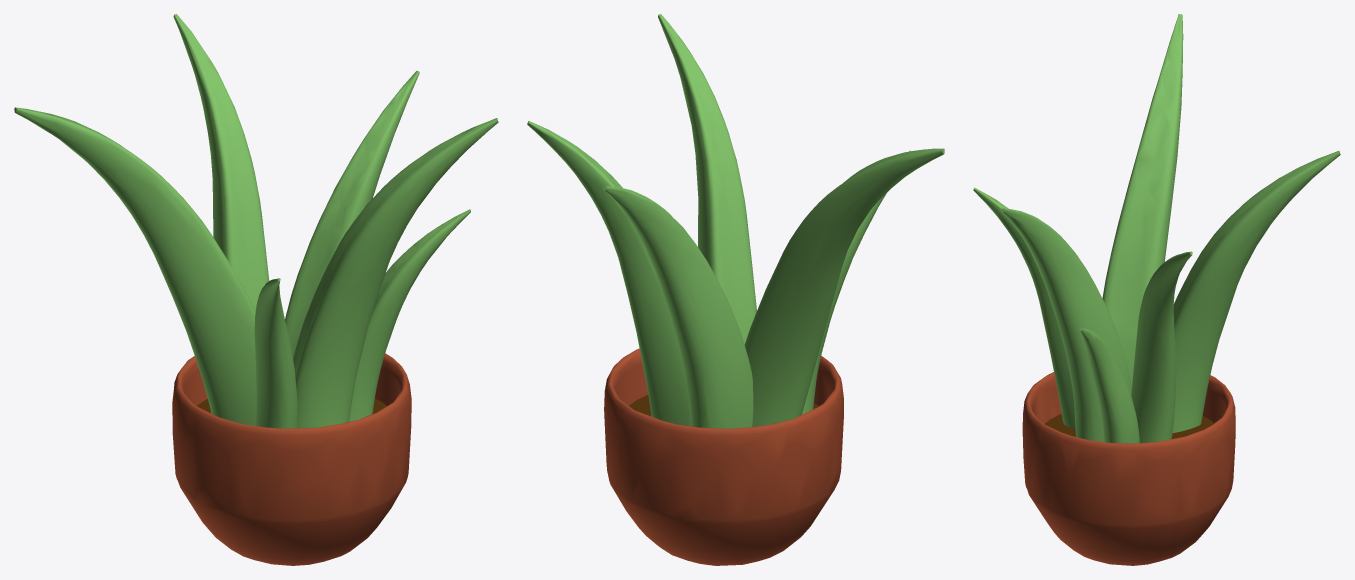
File: plant.glb
3 renders of one model, left to right at view 1: azimuth 30°, elevation 25°; view 2: azimuth 150°, elevation 25°; view 3: azimuth 270°, elevation 25°, orthographic. The views are drawn at different scales.
Parts seen in each view (by area): view 1: plant.001, NurbsPath.009, NurbsPath.008, NurbsPath.010, NurbsPath.011, NurbsPath.006, NurbsPath.007; view 2: plant.001, NurbsPath.009, NurbsPath.010, NurbsPath.008, NurbsPath.011, NurbsPath.007; view 3: plant.001, NurbsPath.009, NurbsPath.010, NurbsPath.008, NurbsPath.011, NurbsPath.006, NurbsPath.007, Circle.001.
Boxes of the visible parts, bbox=[...] form: plant.001: bbox=[172, 353, 411, 565]; NurbsPath.009: bbox=[14, 107, 256, 425]; NurbsPath.008: bbox=[293, 118, 498, 428]; NurbsPath.010: bbox=[173, 14, 269, 310]; NurbsPath.011: bbox=[285, 71, 419, 357]; NurbsPath.006: bbox=[349, 209, 470, 421]; NurbsPath.007: bbox=[254, 278, 297, 428]; plant.001: bbox=[604, 348, 843, 565]; NurbsPath.009: bbox=[744, 148, 944, 426]; NurbsPath.010: bbox=[602, 186, 753, 428]; NurbsPath.008: bbox=[658, 14, 756, 344]; NurbsPath.011: bbox=[527, 121, 690, 426]; NurbsPath.007: bbox=[802, 150, 910, 414]; plant.001: bbox=[1022, 372, 1235, 565]; NurbsPath.009: bbox=[1102, 14, 1183, 387]; NurbsPath.010: bbox=[1172, 151, 1340, 432]; NurbsPath.008: bbox=[1001, 208, 1131, 441]; NurbsPath.011: bbox=[1131, 251, 1192, 443]; NurbsPath.006: bbox=[1079, 328, 1139, 443]; NurbsPath.007: bbox=[973, 187, 1075, 429]; Circle.001: bbox=[1044, 413, 1213, 438].
Size of the model in its own units: 2.01 by 2.25 by 1.75.
